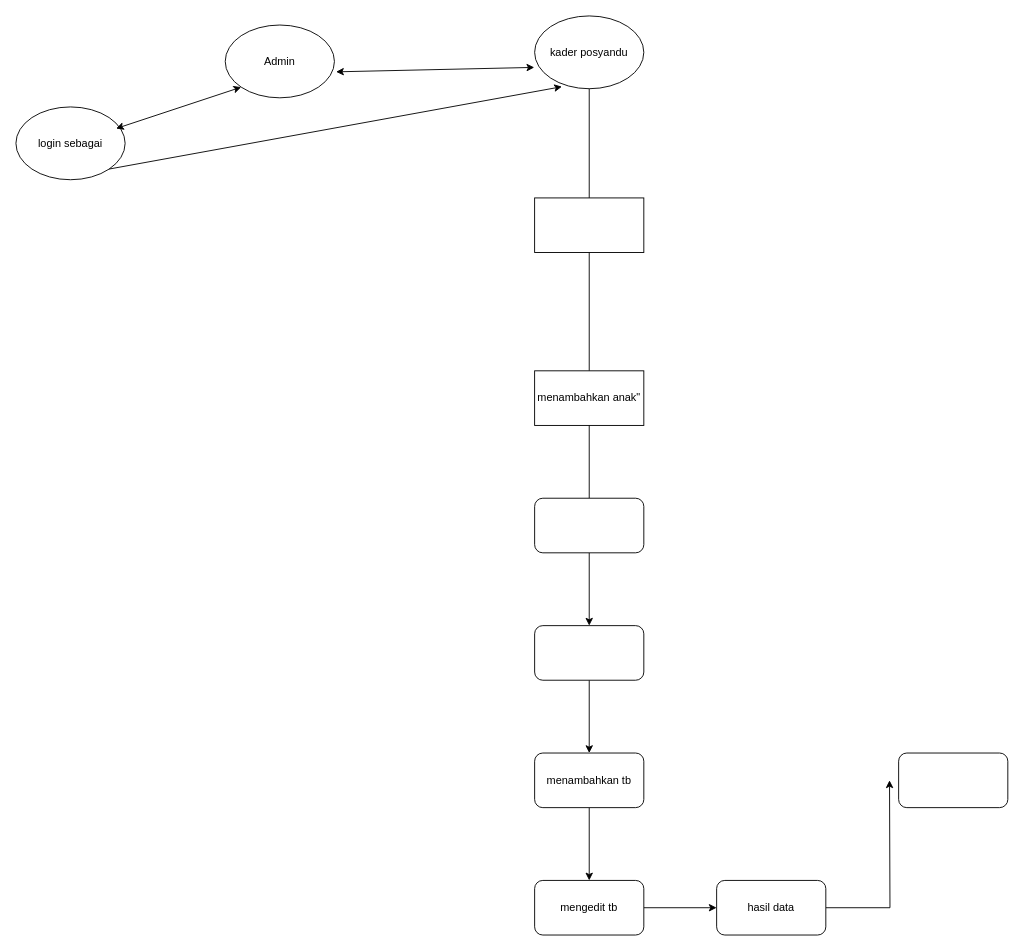
This 1024x951 diagram has some shape labels left out. Each missing label, with the centre of its shape:
"menambahkan bb" belongs at (589,525).
"mendata anak" belongs at (589,225).
"mengedit bb" belongs at (589,652).
"selesai" belongs at (953,780).
